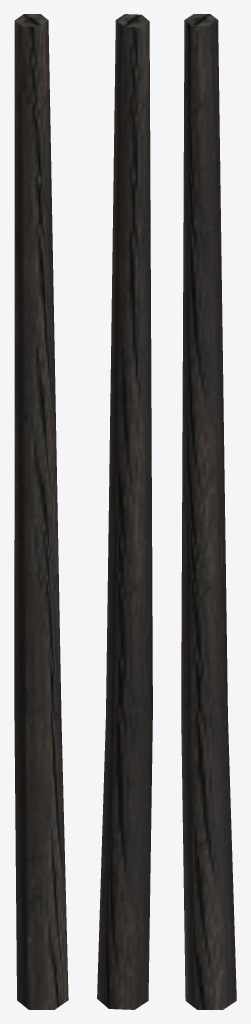
File: WoodenLog_01.FBX
3 renders of one model, left to right at view 1: azimuth 30°, elevation 25°; view 2: azimuth 150°, elevation 25°; view 3: azimuth 330°, elevation 25°, orthographic.
Visible parts, largest first — view 1: WoodenLog_01; view 2: WoodenLog_01; view 3: WoodenLog_01.
Part boxes in pixels (bbox=[...]): WoodenLog_01: bbox=[14, 14, 68, 1009]; WoodenLog_01: bbox=[97, 14, 152, 1009]; WoodenLog_01: bbox=[181, 14, 236, 1009].
Bounding box in the file's own units: 13.24 × 286 × 13.61.
